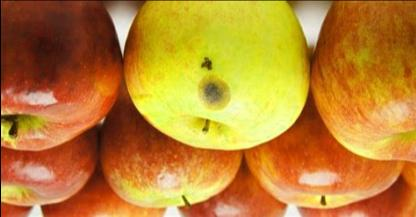defect: (187, 52, 238, 120)
